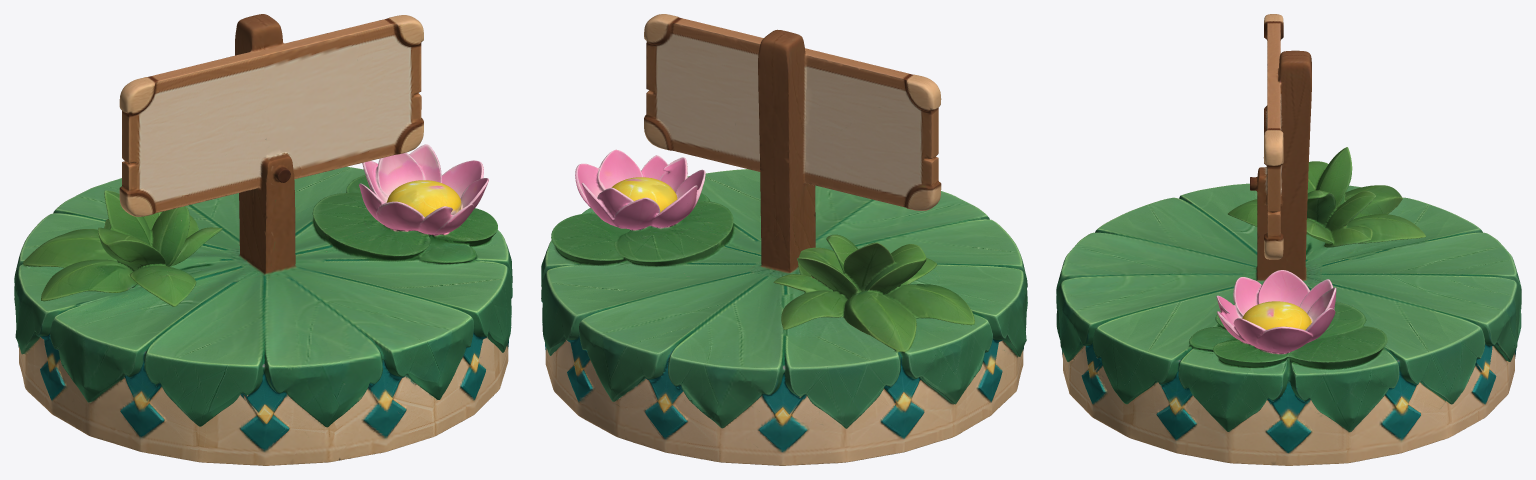
File: meshy-froggy-lotus-leaf-sign.glb
3 renders of one model, left to right at view 1: azimuth 30°, elevation 25°; view 2: azimuth 150°, elevation 25°; view 3: azimuth 270°, elevation 25°, orthographic. The views are drawn at different scales.
Size of the model in its own units: 1.9 by 1.42 by 1.9.
1 material, 1 textured.
